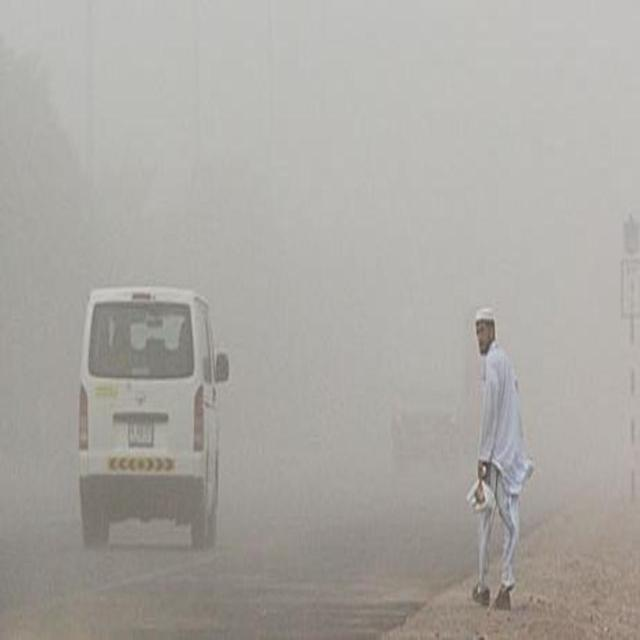Van: (76, 286, 228, 532)
